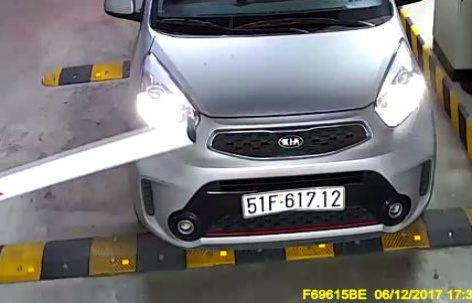plate: (239, 185, 353, 225)
